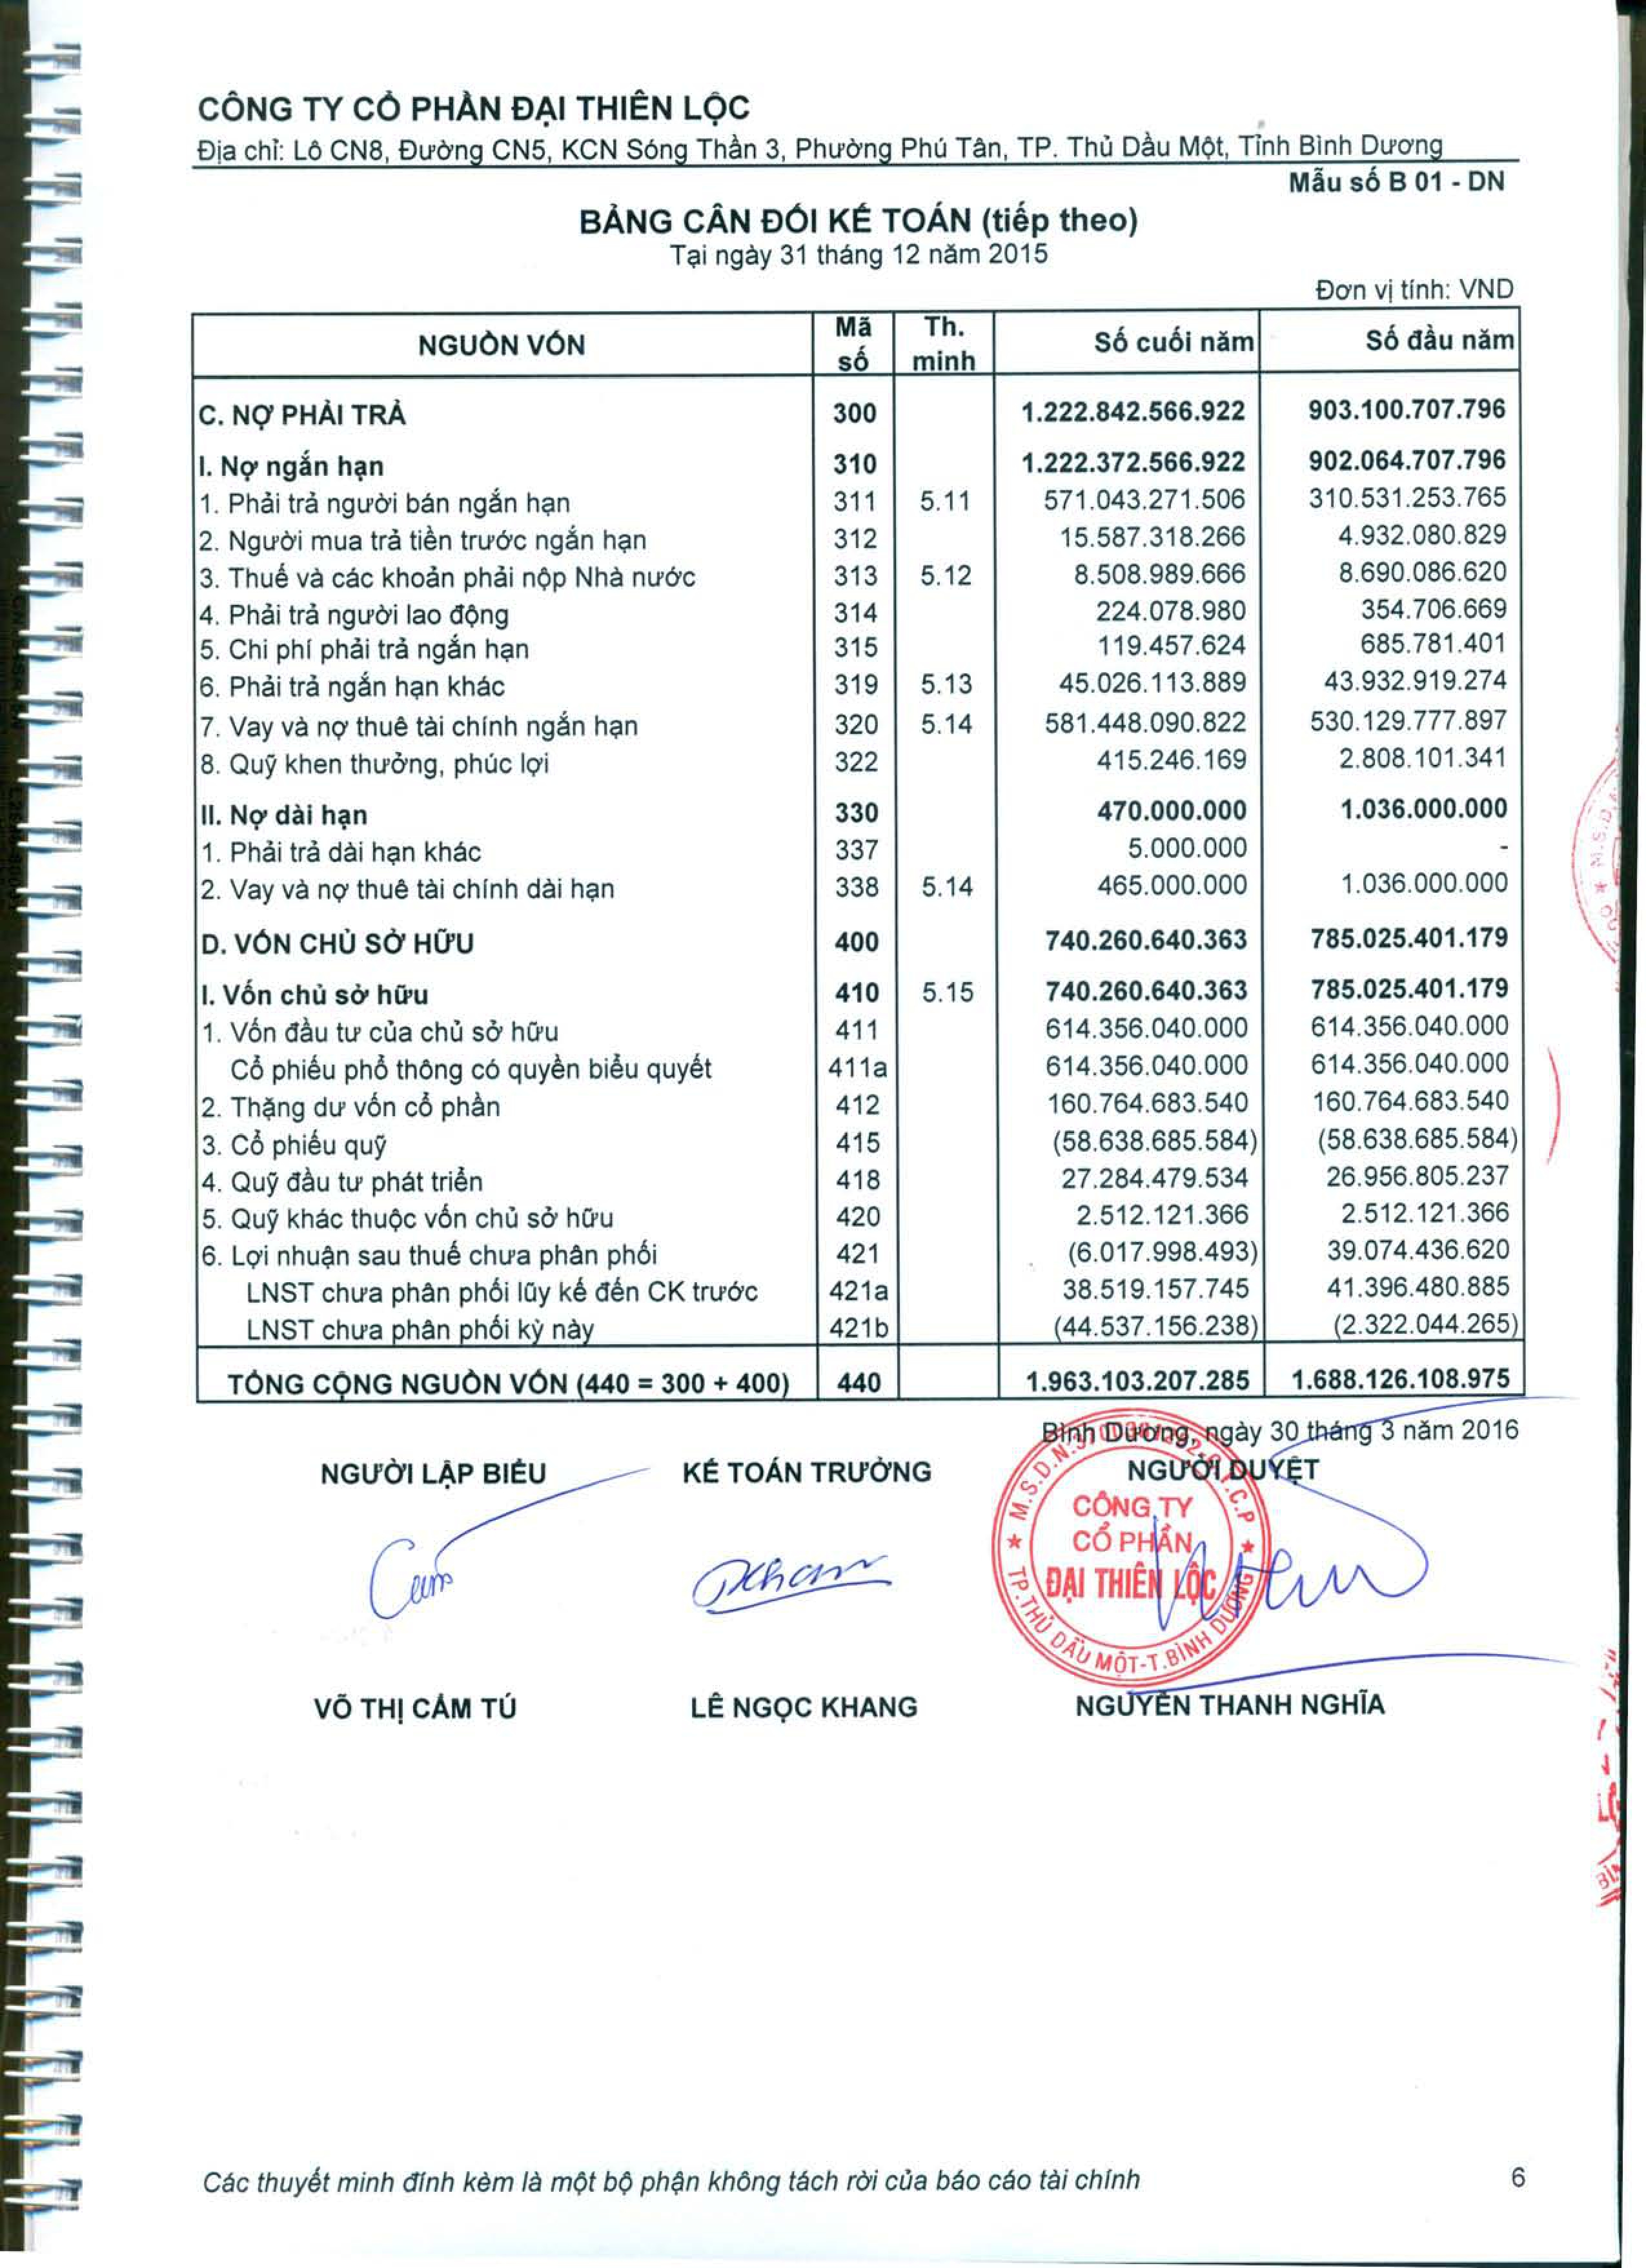table: (178, 301, 1539, 1410)
table column: (194, 301, 789, 1410), (1269, 301, 1528, 1410), (998, 301, 1255, 1410), (822, 301, 893, 1410), (910, 301, 979, 1410)
table column header: (178, 301, 1539, 382)
table row: (178, 312, 1539, 377), (178, 387, 1539, 431), (178, 437, 1539, 479), (178, 1254, 1539, 1291), (178, 648, 1539, 683), (178, 889, 1539, 924), (178, 479, 1539, 512), (178, 512, 1539, 546), (178, 546, 1539, 579), (178, 581, 1539, 615), (178, 615, 1539, 648), (178, 685, 1539, 718), (178, 720, 1539, 754), (178, 770, 1539, 803), (178, 838, 1539, 872), (178, 944, 1539, 977), (178, 981, 1539, 1014), (178, 1016, 1539, 1049), (178, 1219, 1539, 1252), (178, 1085, 1539, 1116), (178, 1116, 1539, 1148), (178, 1150, 1539, 1182), (178, 1185, 1539, 1217), (178, 1358, 1539, 1389), (178, 806, 1539, 836), (178, 1051, 1539, 1081)
